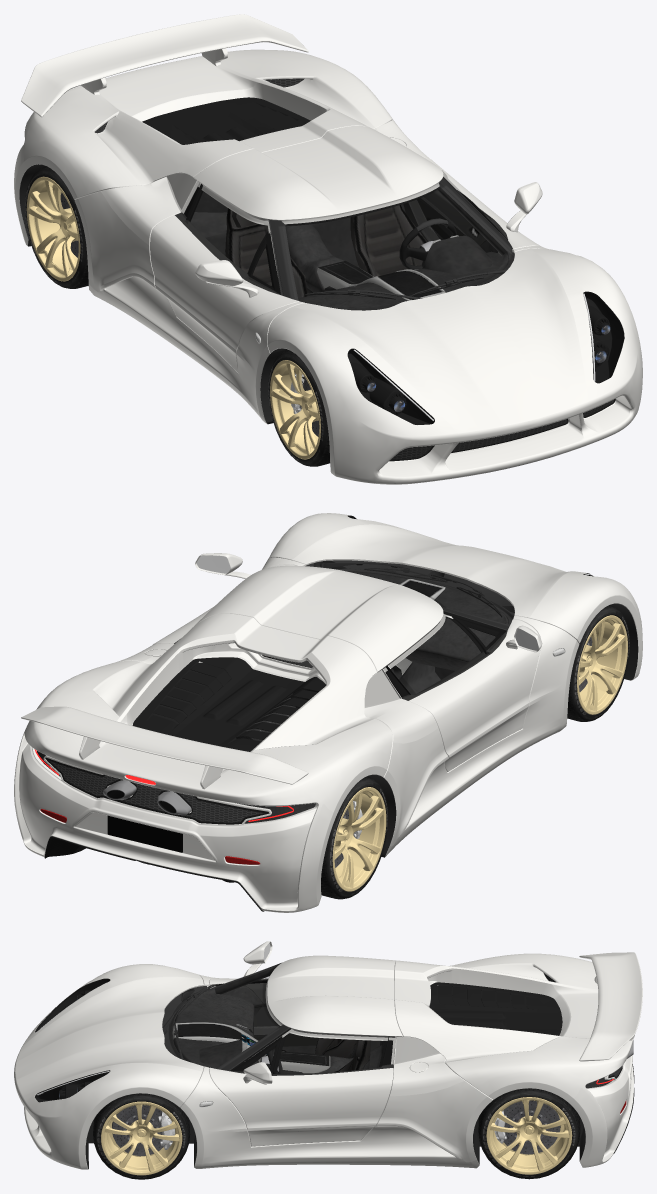
The model's file is car5.gltf.
3 views of the same model, one above another, from view 1: azimuth 30°, elevation 25°; view 2: azimuth 150°, elevation 25°; view 3: azimuth 270°, elevation 25° (orthographic). The views are drawn at different scales.
Visible parts, largest first — view 1: car_Genty_Akylone:chassis_carpaint_LOD2_UV1_Untitled_Default, car_Genty_Akylone:chassis_carpaint_custom01_LOD2_UV1_Untitle, car_Genty_Akylone:chassis_details_LOD2_UV1_Untitled_002_Defa, car_Genty_Akylone:detach_wing_20_carpaint_custom03_LOD2_UV1_, car_Genty_Akylone:detach_door_R_50_carpaint_LOD2_UV1_Untitle, car_Genty_Akylone:chassis_details_normal_LOD2_UV2_Untitled_0, car_Genty_Akylone:detach_trunk_30_carpaint_custom02_LOD2_UV1, car_Genty_Akylone:wheelBR_rims_LOD2_UV1_Untitled_157_Default, car_Genty_Akylone:wheelFR_rims_LOD2_UV1_Untitled_161_Default, car_Genty_Akylone:glass_glass_LOD2_UV1_Untitled_149_Default_, car_Genty_Akylone:detach_door_L_50_details_LOD2_UV1_Untitled, car_Genty_Akylone:detach_door_L_50_carpaint_LOD2_UV1_Untitle (+6 smaller); view 2: car_Genty_Akylone:chassis_carpaint_LOD2_UV1_Untitled_Default, car_Genty_Akylone:chassis_details_LOD2_UV1_Untitled_002_Defa, car_Genty_Akylone:detach_trunk_30_carpaint_custom02_LOD2_UV1, car_Genty_Akylone:chassis_carpaint_custom01_LOD2_UV1_Untitle, car_Genty_Akylone:detach_door_R_50_carpaint_LOD2_UV1_Untitle, car_Genty_Akylone:detach_wing_20_carpaint_custom03_LOD2_UV1_, car_Genty_Akylone:wheelBR_rims_LOD2_UV1_Untitled_157_Default, car_Genty_Akylone:wheelFR_rims_LOD2_UV1_Untitled_161_Default, car_Genty_Akylone:chassis_tiled_grid_LOD2_UV1_Untitled_144_D, car_Genty_Akylone:wheelBR_tire_tires_LOD2_UV1_Untitled_135_D, car_Genty_Akylone:detach_door_R_50_details_LOD2_UV1_Untitled, car_Genty_Akylone:wheelFR_tire_tires_LOD2_UV1_Untitled_092_D (+6 smaller); view 3: car_Genty_Akylone:chassis_carpaint_LOD2_UV1_Untitled_Default, car_Genty_Akylone:chassis_details_LOD2_UV1_Untitled_002_Defa, car_Genty_Akylone:chassis_carpaint_custom01_LOD2_UV1_Untitle, car_Genty_Akylone:detach_door_L_50_carpaint_LOD2_UV1_Untitle, car_Genty_Akylone:detach_trunk_30_carpaint_custom02_LOD2_UV1, car_Genty_Akylone:detach_wing_20_carpaint_custom03_LOD2_UV1_, car_Genty_Akylone:wheelBL_rims_LOD2_UV1_Untitled_155_Default, car_Genty_Akylone:wheelFL_rims_LOD2_UV1_Untitled_062_Default, car_Genty_Akylone:wheelBL_tire_tires_LOD2_UV1_Untitled_090_D, car_Genty_Akylone:wheelFL_tire_tires_LOD2_UV1_Untitled_091_D, car_Genty_Akylone:glass_glass_LOD2_UV1_Untitled_149_Default_, car_Genty_Akylone:chassis_details_normal_LOD2_UV2_Untitled_0 (+6 smaller).
Boxes of the visible parts, x1,y1,x2,y2 form: car_Genty_Akylone:chassis_carpaint_LOD2_UV1_Untitled_Default: (14,49,642,484); car_Genty_Akylone:chassis_carpaint_custom01_LOD2_UV1_Untitle: (293,249,588,433); car_Genty_Akylone:chassis_details_LOD2_UV1_Untitled_002_Defa: (19,164,624,461); car_Genty_Akylone:detach_wing_20_carpaint_custom03_LOD2_UV1_: (21,14,308,117); car_Genty_Akylone:detach_door_R_50_carpaint_LOD2_UV1_Untitle: (150,215,299,372); car_Genty_Akylone:chassis_details_normal_LOD2_UV2_Untitled_0: (105,79,610,412); car_Genty_Akylone:detach_trunk_30_carpaint_custom02_LOD2_UV1: (142,97,310,144); car_Genty_Akylone:wheelBR_rims_LOD2_UV1_Untitled_157_Default: (26,176,80,281); car_Genty_Akylone:wheelFR_rims_LOD2_UV1_Untitled_161_Default: (270,360,320,459); car_Genty_Akylone:glass_glass_LOD2_UV1_Untitled_149_Default_: (167,173,514,310); car_Genty_Akylone:detach_door_L_50_details_LOD2_UV1_Untitled: (403,190,507,245); car_Genty_Akylone:detach_door_L_50_carpaint_LOD2_UV1_Untitle: (425,158,542,249); car_Genty_Akylone:chassis_carpaint_LOD2_UV1_Untitled_Default: (14,513,642,912); car_Genty_Akylone:chassis_details_LOD2_UV1_Untitled_002_Defa: (37,515,638,882); car_Genty_Akylone:detach_trunk_30_carpaint_custom02_LOD2_UV1: (132,657,326,751); car_Genty_Akylone:chassis_carpaint_custom01_LOD2_UV1_Untitle: (292,524,572,618); car_Genty_Akylone:detach_door_R_50_carpaint_LOD2_UV1_Untitle: (409,619,542,771); car_Genty_Akylone:detach_wing_20_carpaint_custom03_LOD2_UV1_: (21,706,308,789); car_Genty_Akylone:wheelBR_rims_LOD2_UV1_Untitled_157_Default: (332,787,386,891); car_Genty_Akylone:wheelFR_rims_LOD2_UV1_Untitled_161_Default: (577,615,627,714); car_Genty_Akylone:chassis_tiled_grid_LOD2_UV1_Untitled_144_D: (49,760,264,822); car_Genty_Akylone:wheelBR_tire_tires_LOD2_UV1_Untitled_135_D: (321,776,388,899); car_Genty_Akylone:detach_door_R_50_details_LOD2_UV1_Untitled: (385,616,507,700); car_Genty_Akylone:wheelFR_tire_tires_LOD2_UV1_Untitled_092_D: (567,605,629,721); car_Genty_Akylone:chassis_carpaint_LOD2_UV1_Untitled_Default: (14,953,633,1169); car_Genty_Akylone:chassis_details_LOD2_UV1_Untitled_002_Defa: (35,963,633,1168); car_Genty_Akylone:chassis_carpaint_custom01_LOD2_UV1_Untitle: (15,976,203,1096); car_Genty_Akylone:detach_door_L_50_carpaint_LOD2_UV1_Untitle: (209,1062,393,1146); car_Genty_Akylone:detach_trunk_30_carpaint_custom02_LOD2_UV1: (429,982,562,1035); car_Genty_Akylone:detach_wing_20_carpaint_custom03_LOD2_UV1_: (579,952,642,1061); car_Genty_Akylone:wheelBL_rims_LOD2_UV1_Untitled_155_Default: (486,1097,572,1174); car_Genty_Akylone:wheelFL_rims_LOD2_UV1_Untitled_062_Default: (101,1101,182,1175); car_Genty_Akylone:wheelBL_tire_tires_LOD2_UV1_Untitled_090_D: (478,1088,580,1179); car_Genty_Akylone:wheelFL_tire_tires_LOD2_UV1_Untitled_091_D: (93,1093,190,1179); car_Genty_Akylone:glass_glass_LOD2_UV1_Untitled_149_Default_: (169,963,439,1070); car_Genty_Akylone:chassis_details_normal_LOD2_UV2_Untitled_0: (59,994,626,1113).
Size of the model in its own units: 0.0228 by 0.0112 by 0.0451.
